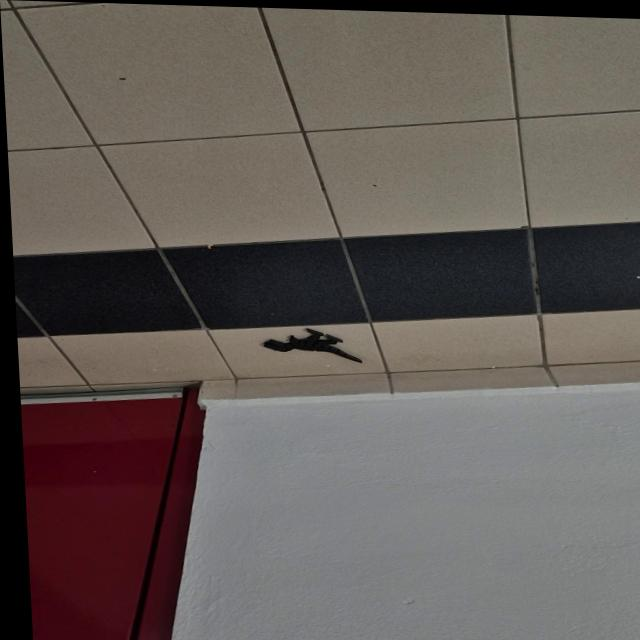dino: (262, 327, 364, 364)
